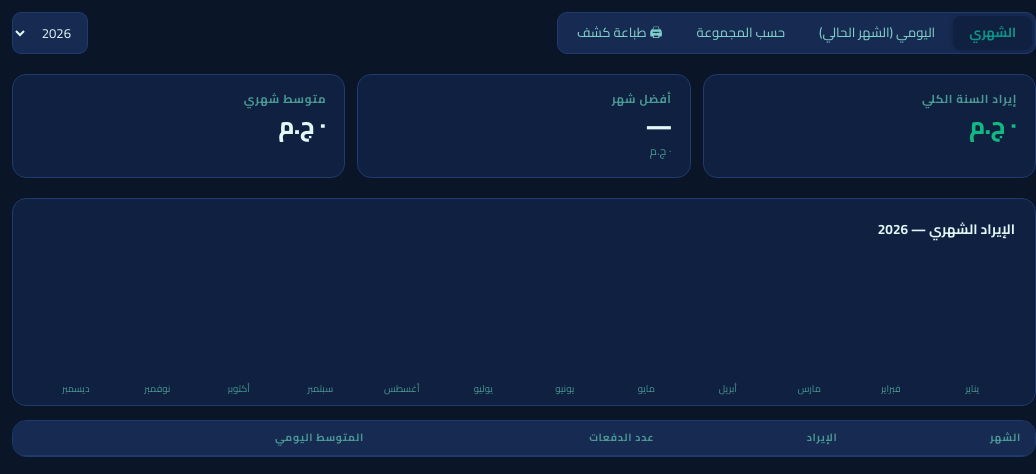
it: PaymentReports (print tab, "بالطالب" mode) — group-scoped student selector is now searchable › changing the group resets the student selection, keeping the old cross-field reset behavior
The width and height of the screenshot is (1036, 474).
Click the button "🖨 طباعة كشف" at {"x": 620, "y": 33}, box [561, 16, 678, 50]
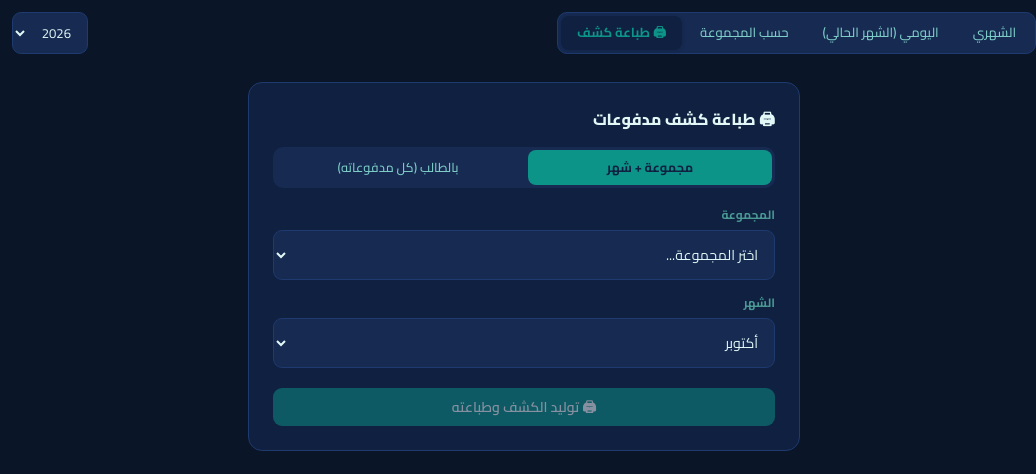
Click the button "بالطالب (كل مدفوعاته)" at {"x": 398, "y": 168}, box [276, 150, 520, 185]
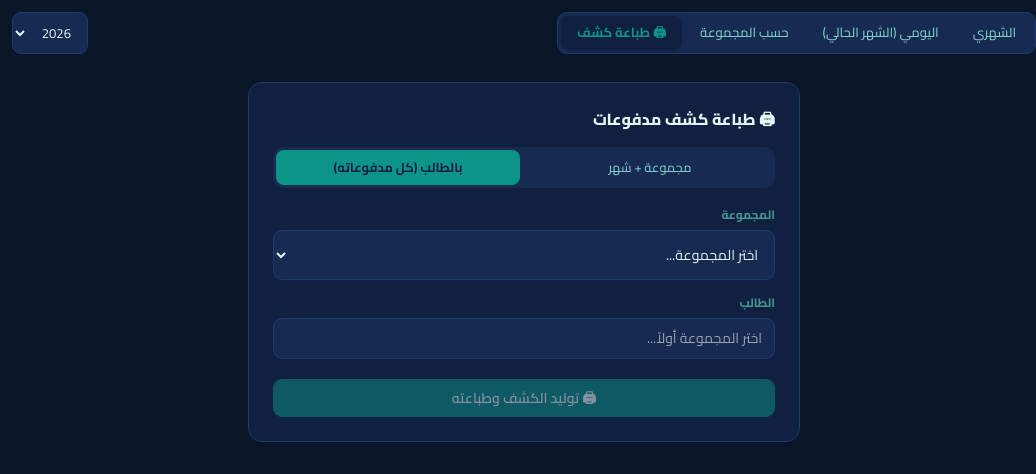
Select "مجموعة أ — الأول الثانوي" in the dropdown below "🖨 طباعة كشف مدفوعات" at {"x": 524, "y": 255}, box [273, 230, 775, 280]
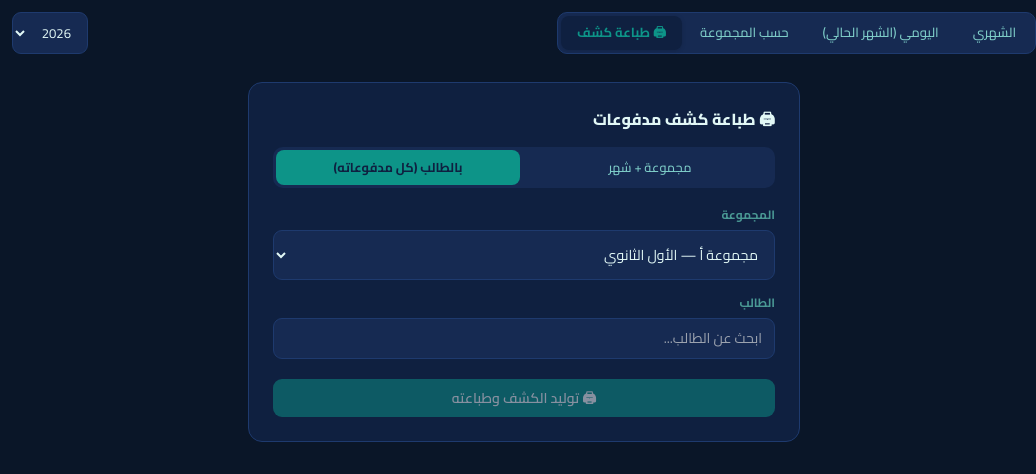
Type "أشرف محمد" into the dropdown with placeholder "ابحث عن الطالب..." at {"x": 524, "y": 339}, box [273, 318, 775, 359]
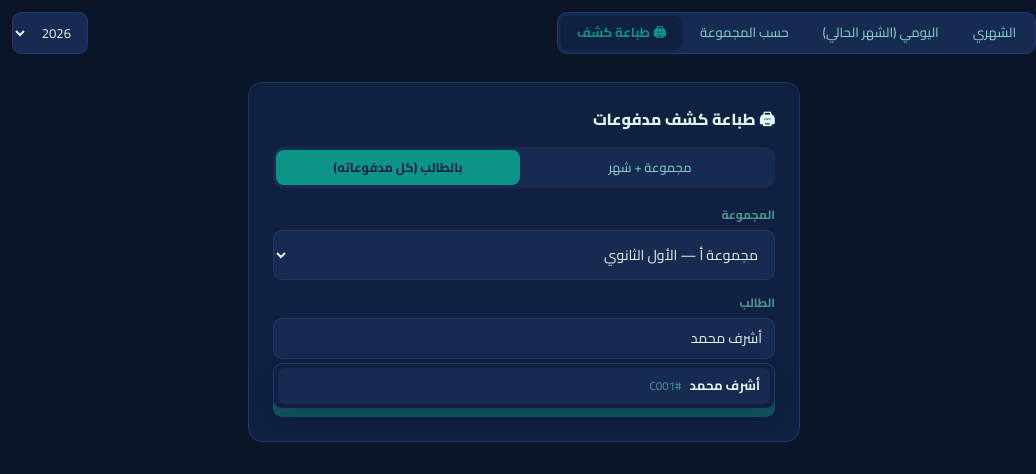
Click the option "أشرف محمد #C001" at {"x": 725, "y": 385}, box [278, 368, 770, 404]
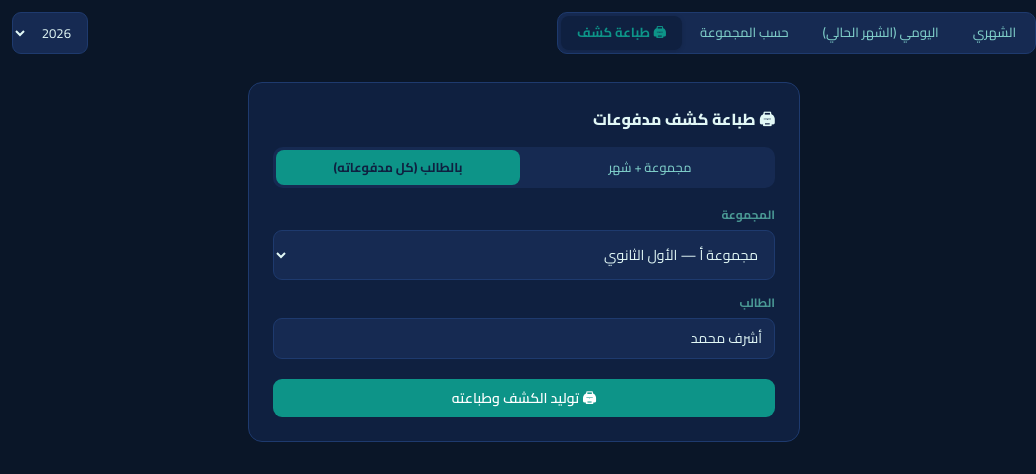
Expected: the button "🖨 توليد الكشف وطباعته" is enabled, [273, 379, 775, 417]
Select "مجموعة ب — الثاني الثانوي" in the 2nd dropdown at {"x": 524, "y": 255}, box [273, 230, 775, 280]
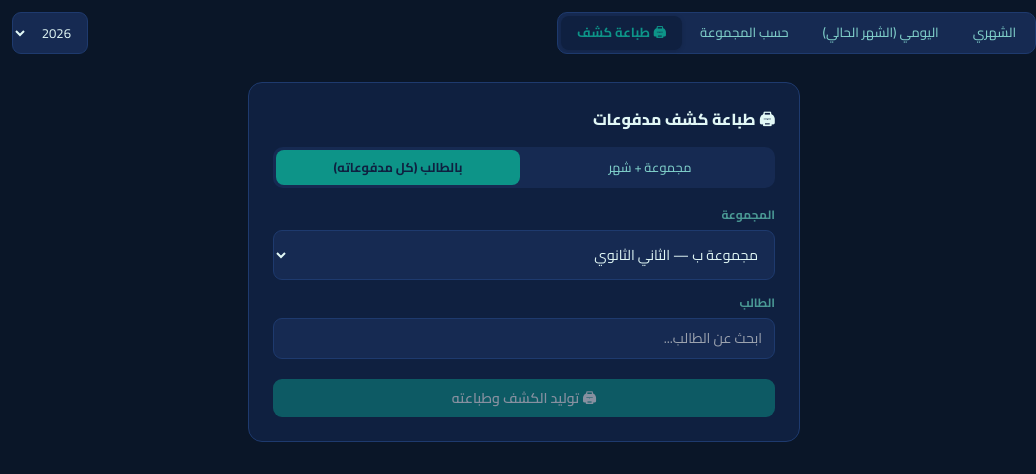
Expected: the button "🖨 توليد الكشف وطباعته" is disabled, [273, 379, 775, 417]
Expected: the dropdown with placeholder "ابحث عن الطالب..." is empty, [273, 318, 775, 359]
